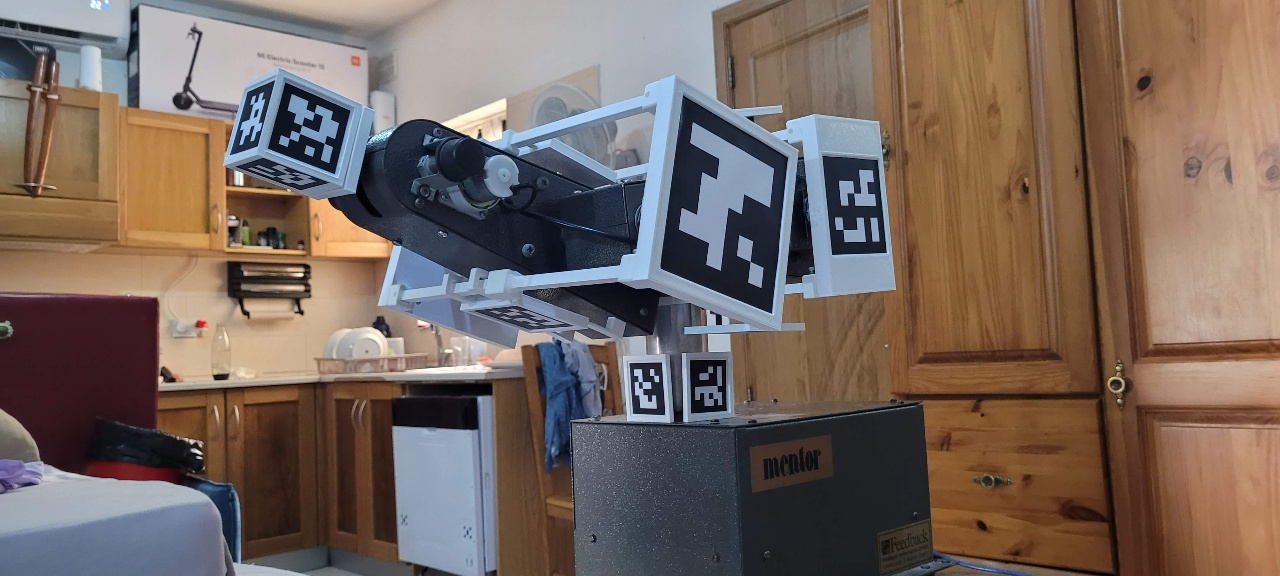Robot: (223, 68, 899, 422)
